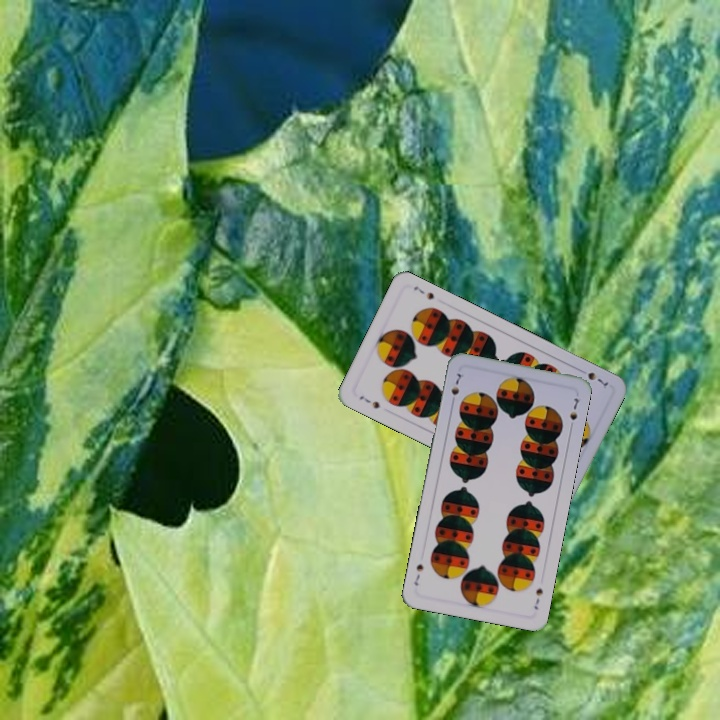S7: (575, 365, 611, 389), (447, 369, 464, 407), (355, 392, 382, 411), (530, 584, 546, 612)
